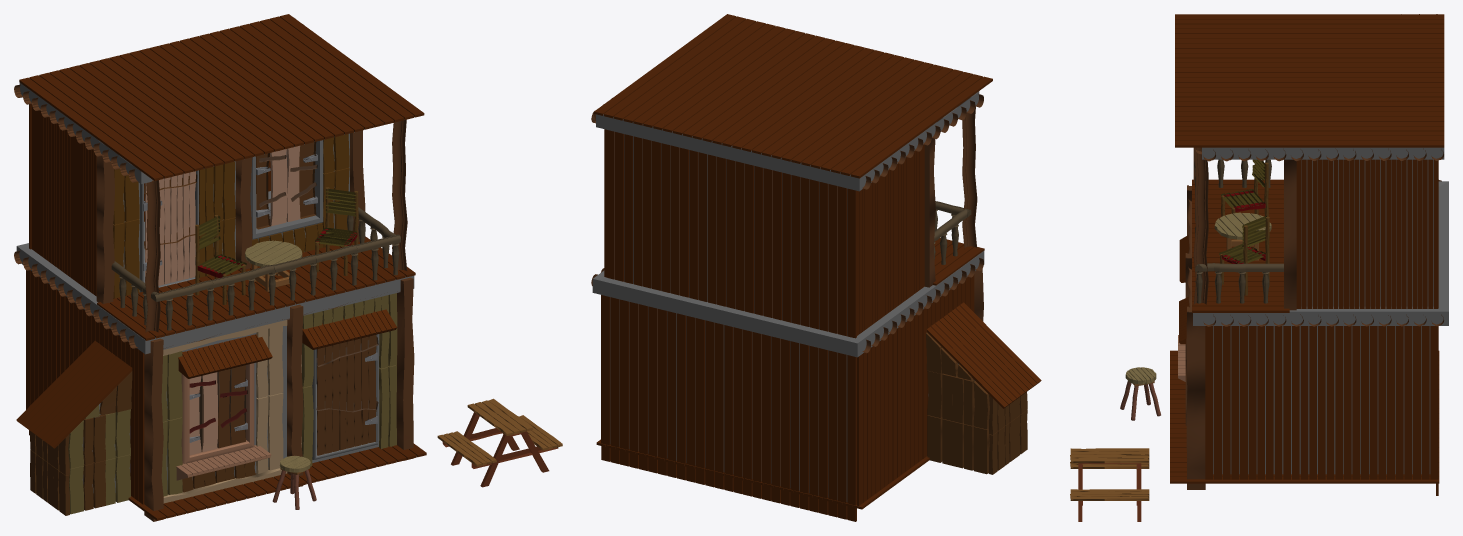
Rendered from House4LOD0.fbx.
The picture shows the model from 3 angles, left to right: view 1: azimuth 30°, elevation 25°; view 2: azimuth 150°, elevation 25°; view 3: azimuth 270°, elevation 25°; orthographic projection.
Parts seen in each view (by area): view 1: Plane.041; view 2: Plane.041; view 3: Plane.041.
Boxes of the visible parts, x1,y1,x2,y2 form: Plane.041: (14,14,562,521); Plane.041: (591,14,1041,521); Plane.041: (1070,14,1448,521).
Bounding box in the file's own units: 1040 × 818 × 796.
